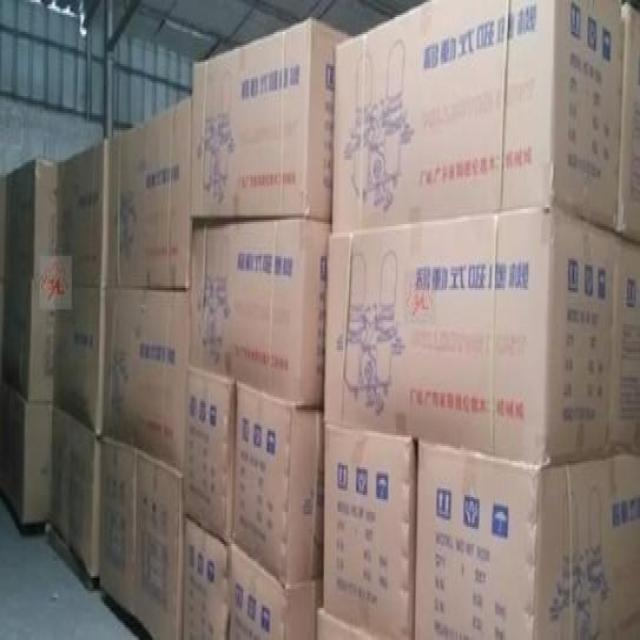box: (325, 205, 639, 468), (331, 2, 624, 236), (414, 439, 638, 638), (191, 21, 358, 225), (190, 217, 327, 405), (322, 420, 416, 638), (231, 388, 323, 586), (101, 285, 189, 478), (109, 97, 191, 289), (182, 366, 235, 544), (51, 402, 100, 589), (134, 454, 183, 638), (225, 546, 322, 638), (55, 285, 107, 438), (58, 141, 112, 287), (0, 380, 54, 525), (1, 270, 58, 403), (0, 157, 58, 284), (100, 441, 138, 612), (181, 521, 230, 637), (618, 2, 639, 241), (315, 609, 390, 638)
